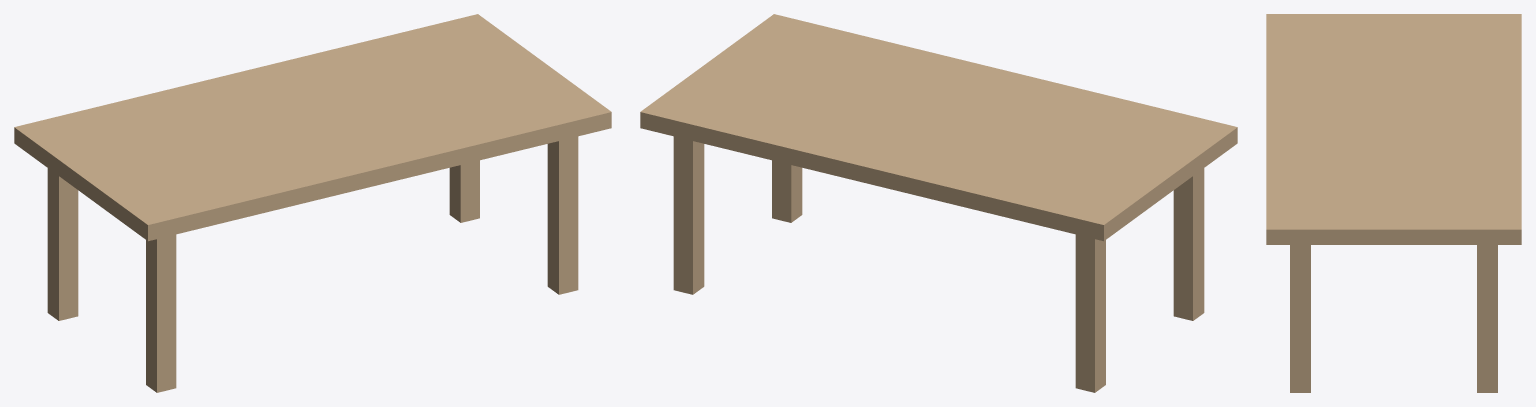
File: apple_table.glb
3 views of the same model, side by side, from view 1: azimuth 30°, elevation 25°; view 2: azimuth 150°, elevation 25°; view 3: azimuth 270°, elevation 25° (orthographic). The views are drawn at different scales.
Visible parts, largest first — view 1: apple_table; view 2: apple_table; view 3: apple_table.
Boxes of the visible parts, box(x1,y1,x2,y2) form: apple_table: box(14, 14, 611, 392); apple_table: box(640, 14, 1237, 392); apple_table: box(1266, 14, 1521, 392).
Size of the model in its own units: 2.4 by 0.9 by 1.2.
